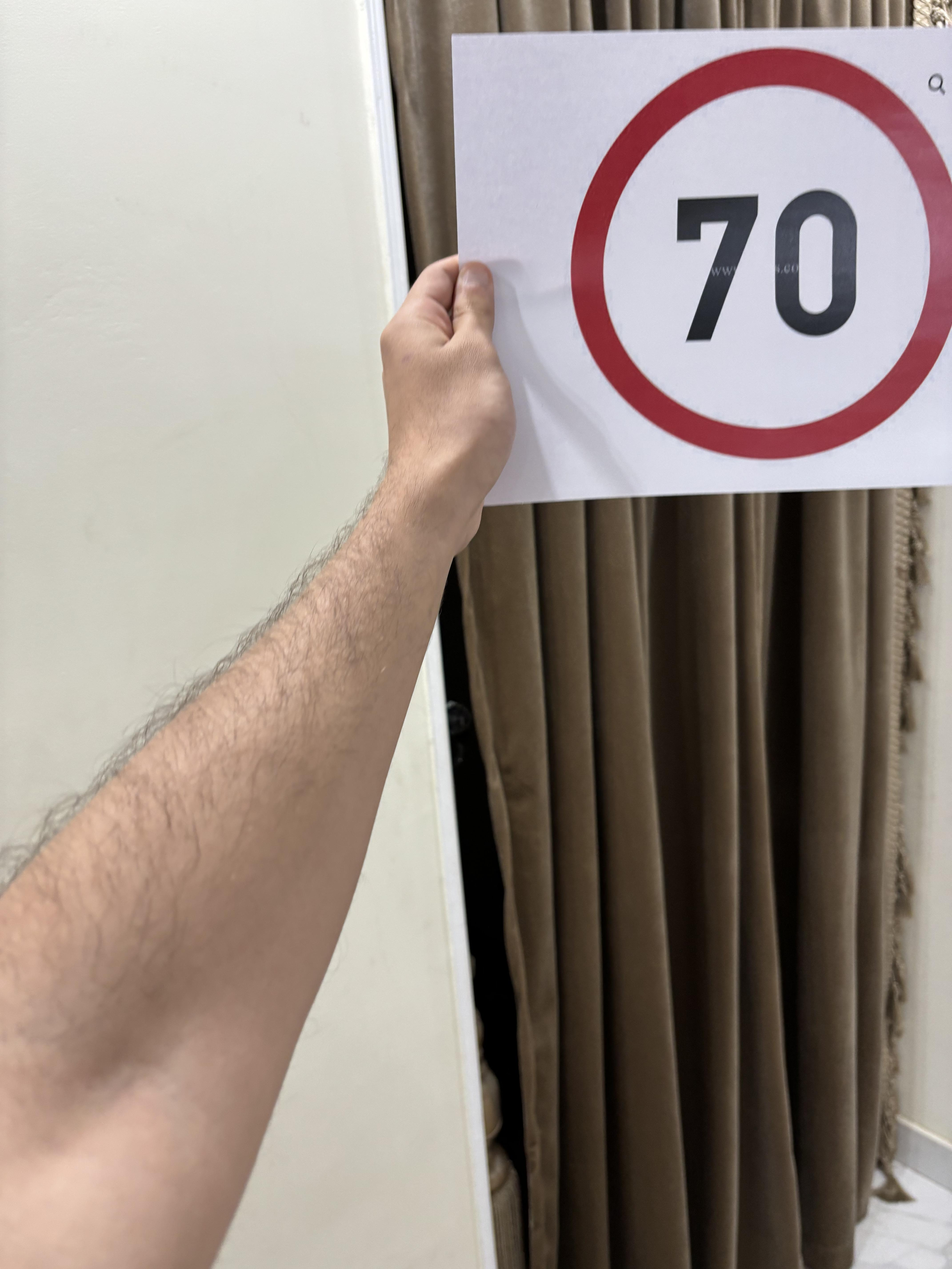70-Speed: (568, 47, 952, 460)
